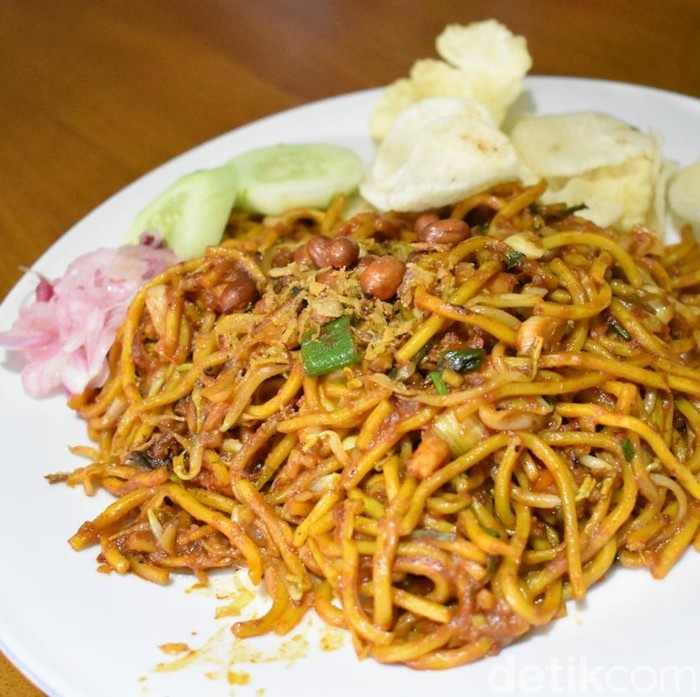mie_aceh: (72, 194, 700, 670)
